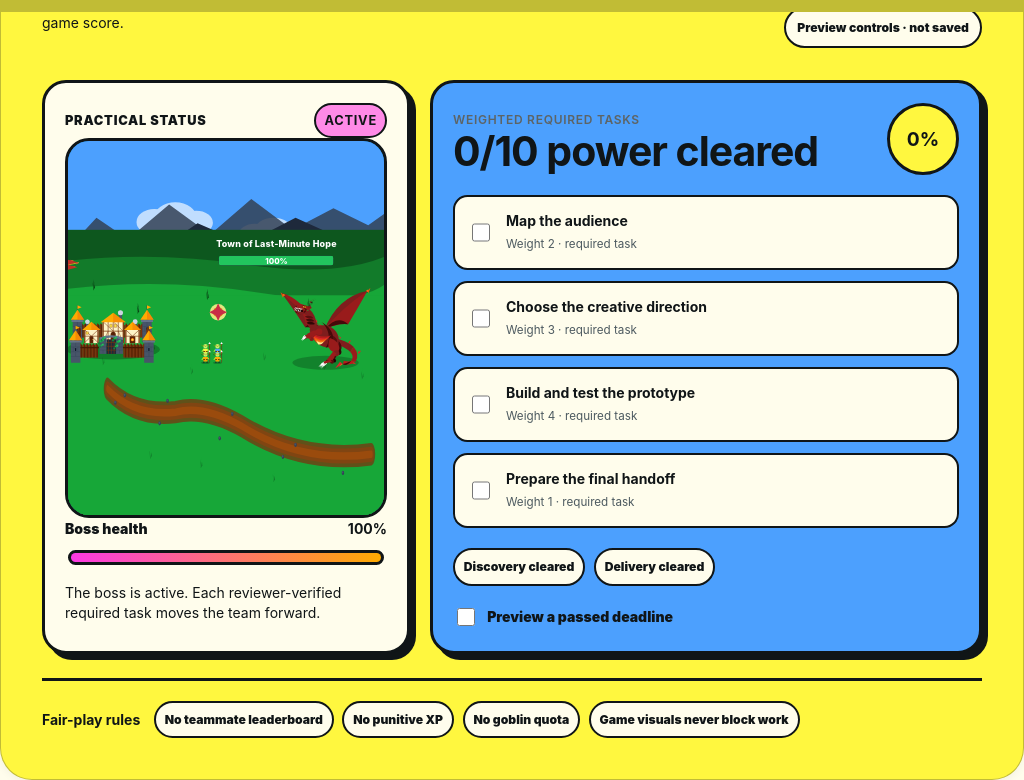
Test: GameLayerPreview › shows completion and overdue game copy without replacing practical status
The width and height of the screenshot is (1024, 780).
Click the checkbox labelled "Preview a passed deadline".
click(466, 617)  # box [457,608,475,626]
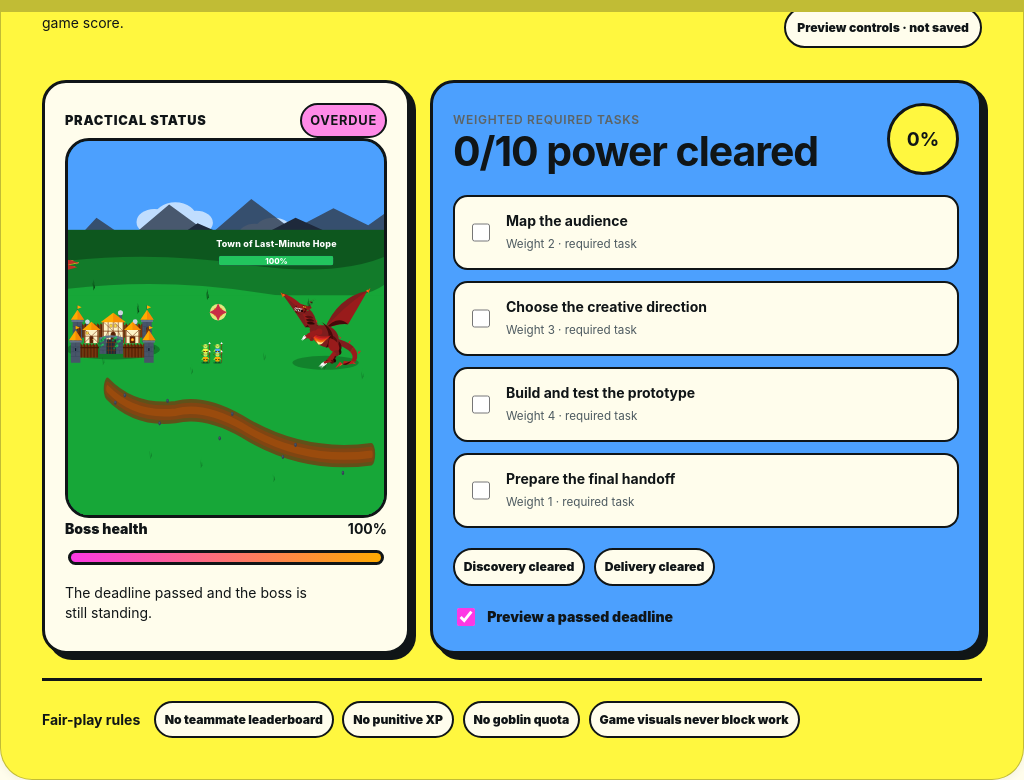
Now the text "overdue" is shown, box [300,103,387,138]
Now the text "The deadline passed and the boss is still standing." is shown, box [65,584,307,621]
Click the checkbox labelled "Map the audience".
click(481, 232)  # box [472,223,490,242]
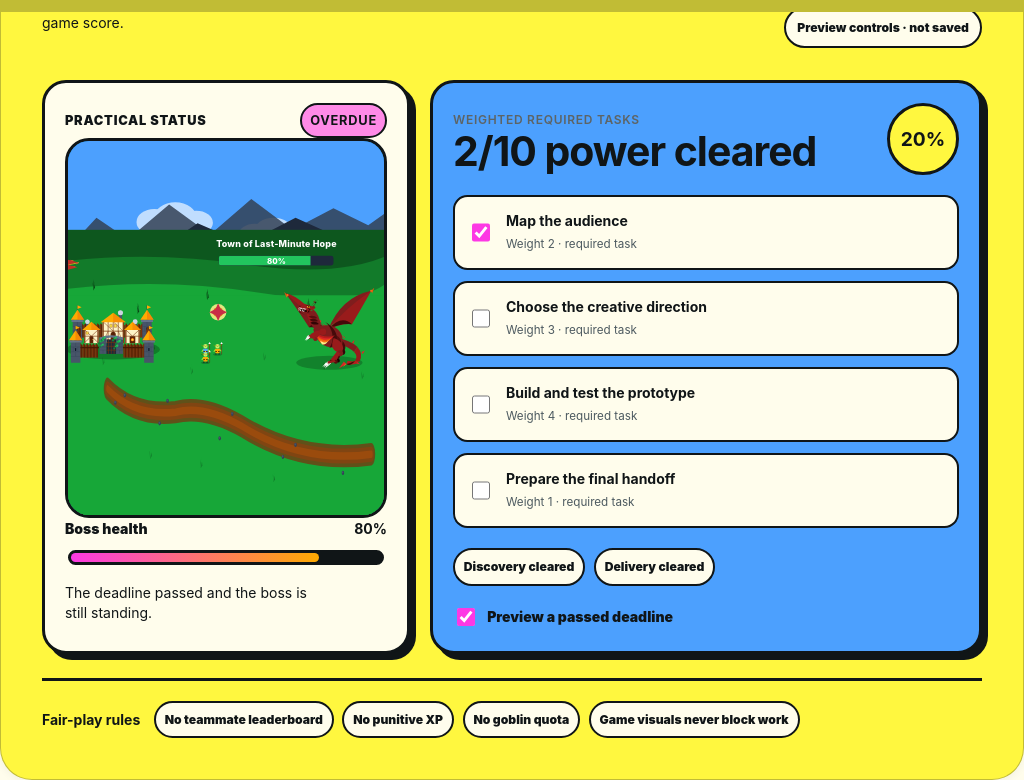
Click the checkbox labelled "Choose the creative direction".
click(481, 318)  # box [472,309,490,328]
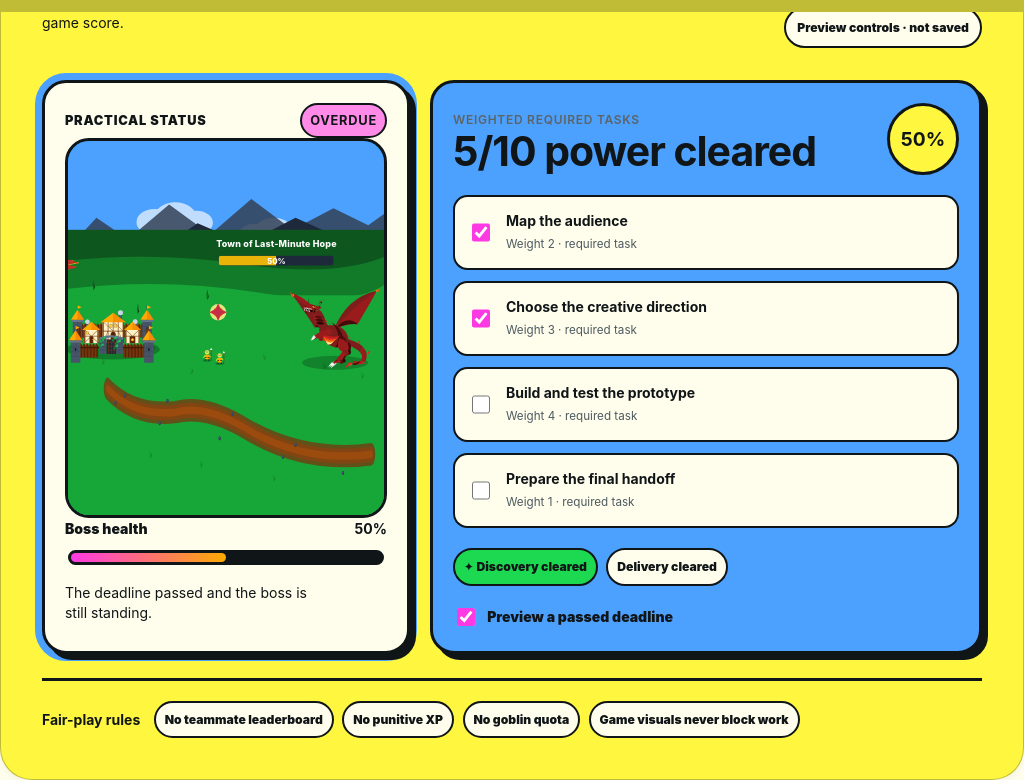
Click the checkbox labelled "Build and test the prototype".
click(481, 404)  # box [472,395,490,414]
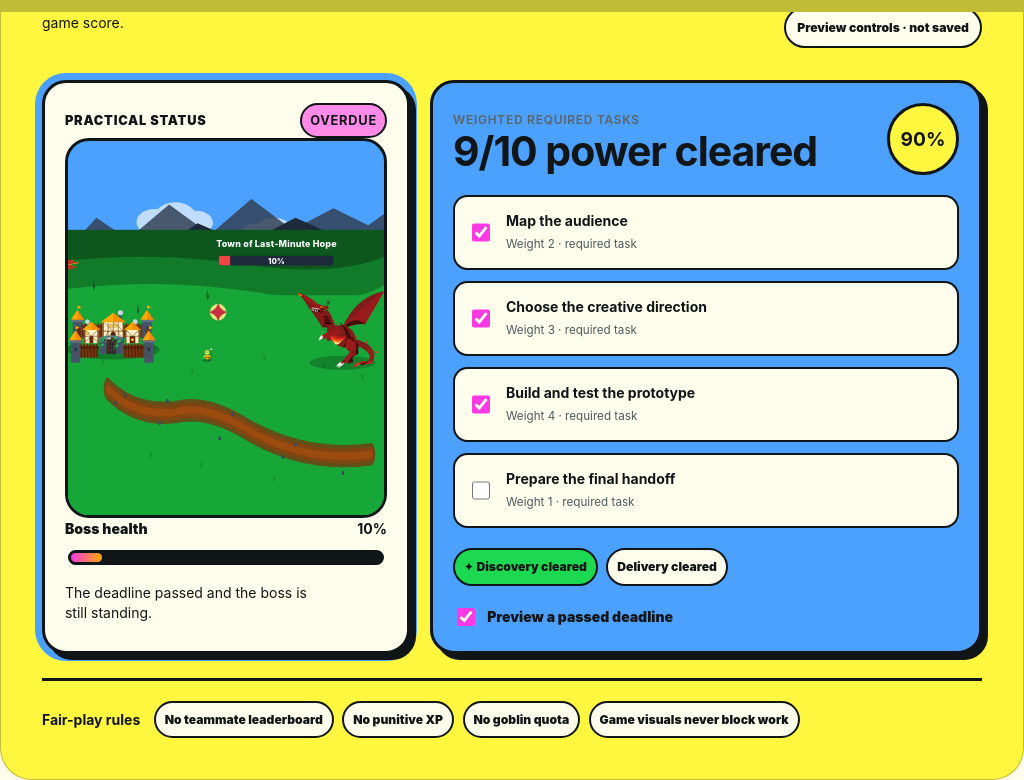
Click the checkbox labelled "Prepare the final handoff".
click(481, 490)  # box [472,481,490,500]
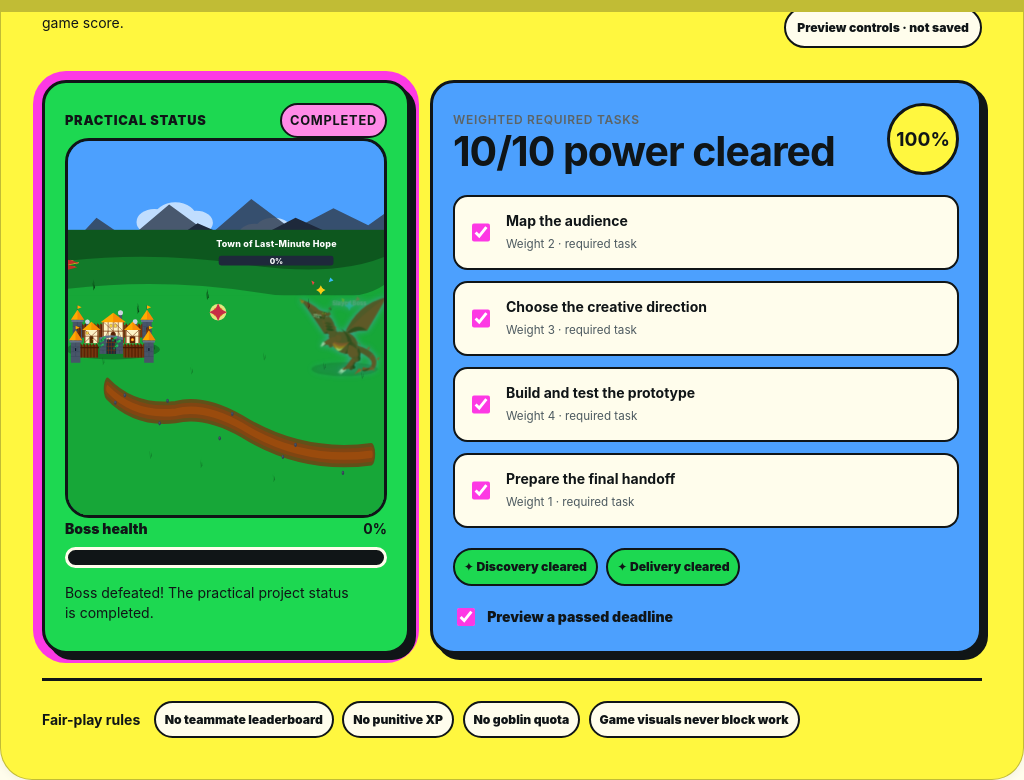
Now the text "completed" is shown, box [280,103,387,138]
Now the text "Boss defeated! The practical project status is completed." is shown, box [65,583,387,631]
